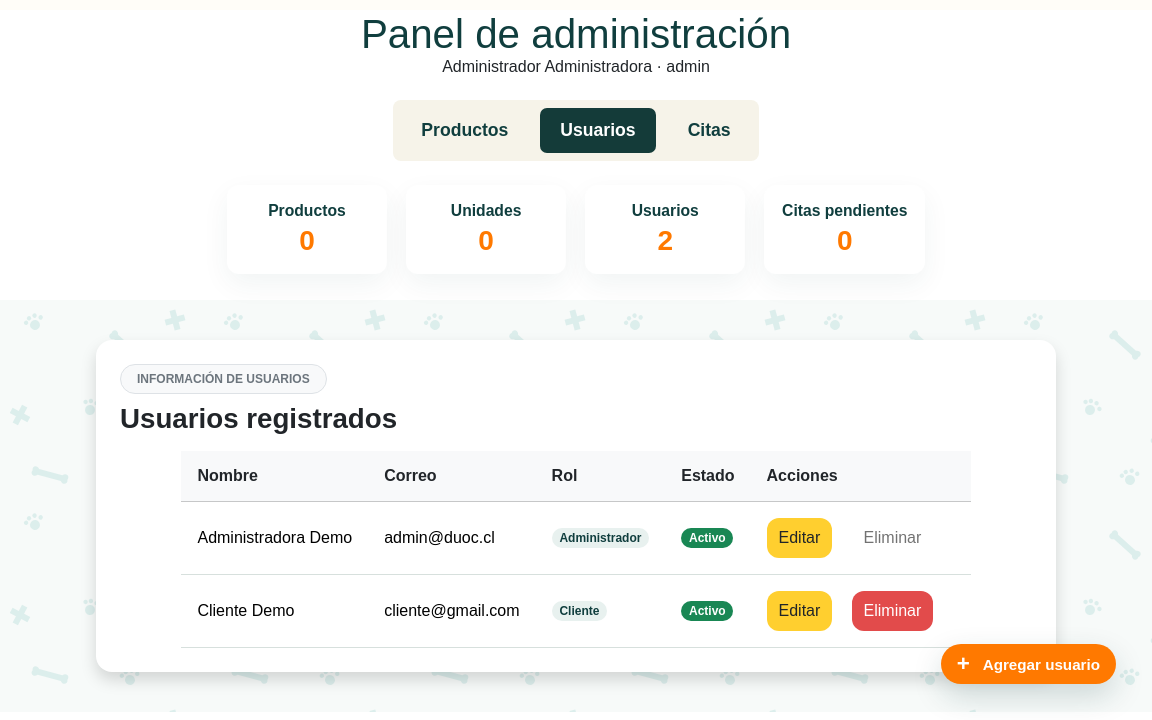
Test case: permite editar los datos de un usuario
This screenshot has width=1152, height=720.
Step 1. Click the button "Editar" in the row of "Administradora Demo" → (799, 538), box left=766, top=518, right=832, bottom=558
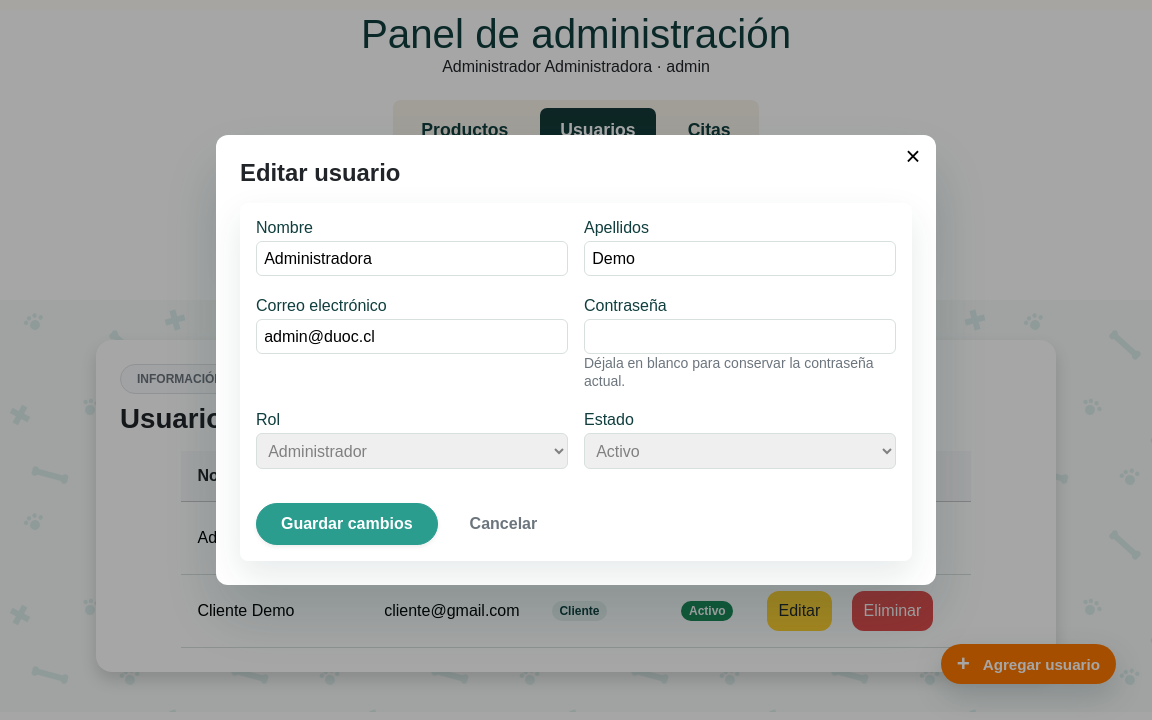
Expected: the dialog is shown
Step 2. Replace the text in the field labelled "Nombre" with "Nuevo nombre" → (412, 259), box left=256, top=242, right=568, bottom=276
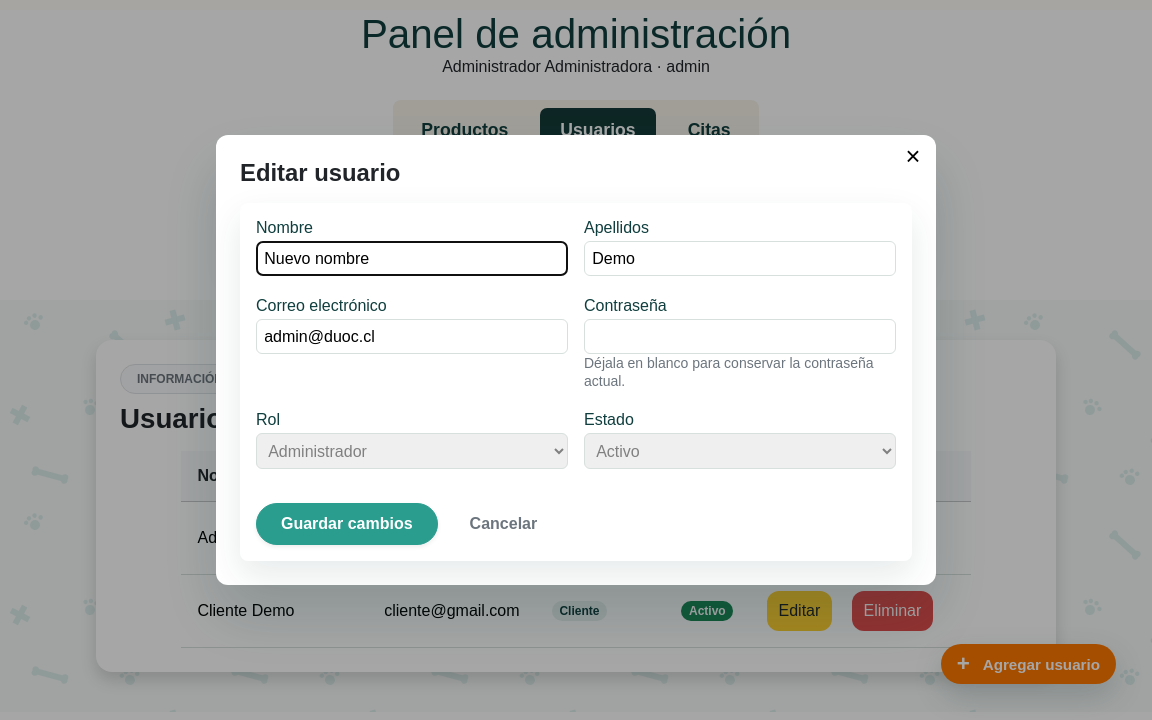
Step 3. Click the button "Guardar cambios" → (347, 524), box left=256, top=503, right=438, bottom=545
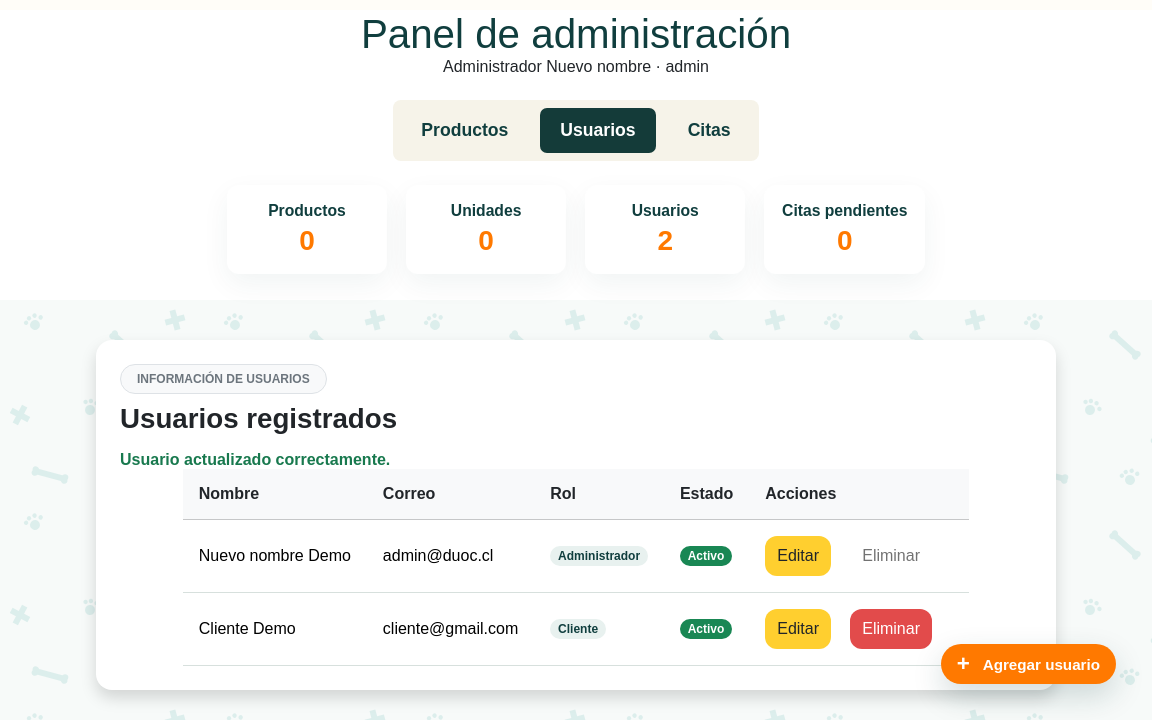
Expected: the text "Nuevo nombre Demo" is shown, left=183, top=520, right=367, bottom=592
Expected: the message reads "Usuario actualizado correctamente.", left=120, top=451, right=390, bottom=468
